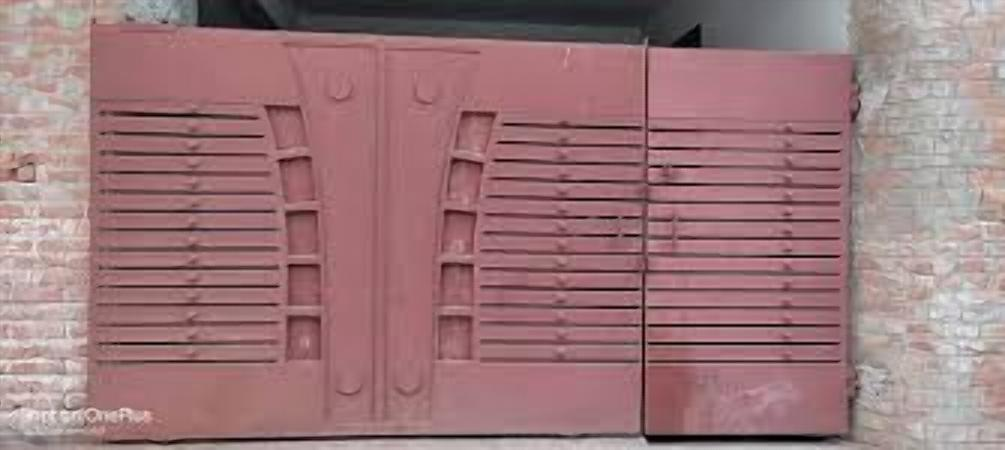Gate: (85, 16, 862, 443)
